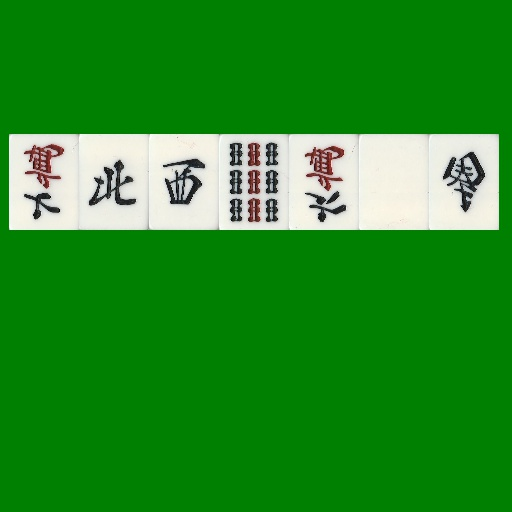6m: (289, 134, 359, 230)
7m: (9, 134, 79, 230)
9s: (219, 134, 289, 230)
north: (79, 134, 149, 230)
south: (429, 134, 499, 230)
west: (149, 134, 219, 230)
white: (359, 134, 429, 230)
